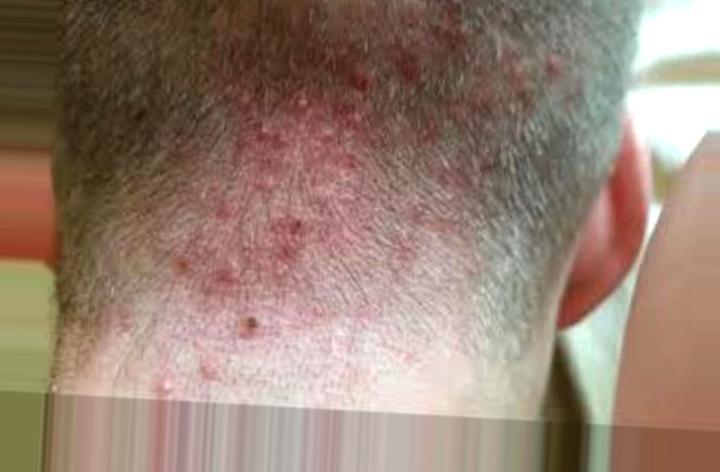Folliculitis: (186, 91, 364, 349)
